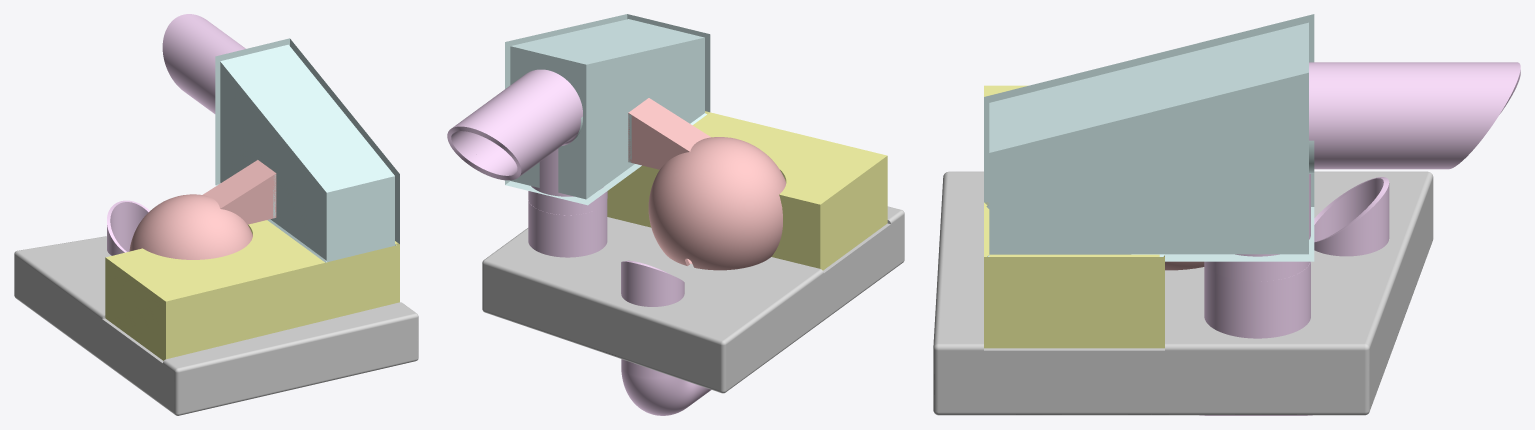
Rendered from test_environment_2.glb.
The picture shows the model from 3 angles, left to right: view 1: azimuth 30°, elevation 25°; view 2: azimuth 150°, elevation 25°; view 3: azimuth 270°, elevation 25°; orthographic projection. The views are drawn at different scales.
Parts seen in each view (by area): view 1: Mesh_5, Mesh_15, Mesh_12, Mesh_6, Mesh_0, Mesh_4, Mesh_7; view 2: Mesh_15, Mesh_5, Mesh_6, Mesh_12, Mesh_0, Mesh_4, Mesh_3, Mesh_11, Mesh_7, Mesh_2; view 3: Mesh_5, Mesh_15, Mesh_12, Mesh_0, Mesh_3, Mesh_4, Mesh_7, Mesh_2.
Boxes of the visible parts, x1,y1,x2,y2 form: Mesh_5: (215, 38, 399, 262); Mesh_15: (14, 236, 418, 415); Mesh_12: (105, 220, 399, 360); Mesh_6: (129, 160, 276, 259); Mesh_0: (179, 33, 245, 113); Mesh_4: (162, 14, 229, 93); Mesh_7: (107, 200, 149, 255); Mesh_15: (482, 206, 904, 393); Mesh_5: (505, 14, 710, 205); Mesh_6: (628, 98, 786, 270); Mesh_12: (607, 111, 887, 270); Mesh_0: (470, 70, 582, 173); Mesh_4: (447, 105, 534, 180); Mesh_3: (528, 200, 607, 257); Mesh_11: (621, 359, 711, 415); Mesh_7: (621, 260, 684, 306); Mesh_2: (528, 145, 607, 215); Mesh_5: (984, 14, 1314, 261); Mesh_15: (933, 171, 1433, 415); Mesh_12: (984, 85, 1164, 348); Mesh_0: (1311, 62, 1439, 169); Mesh_3: (1204, 261, 1310, 338); Mesh_4: (1439, 62, 1520, 169); Mesh_7: (1314, 177, 1389, 256); Mesh_2: (1204, 174, 1310, 281).
Size of the model in its own units: 38.93 by 46.32 by 54.96.
